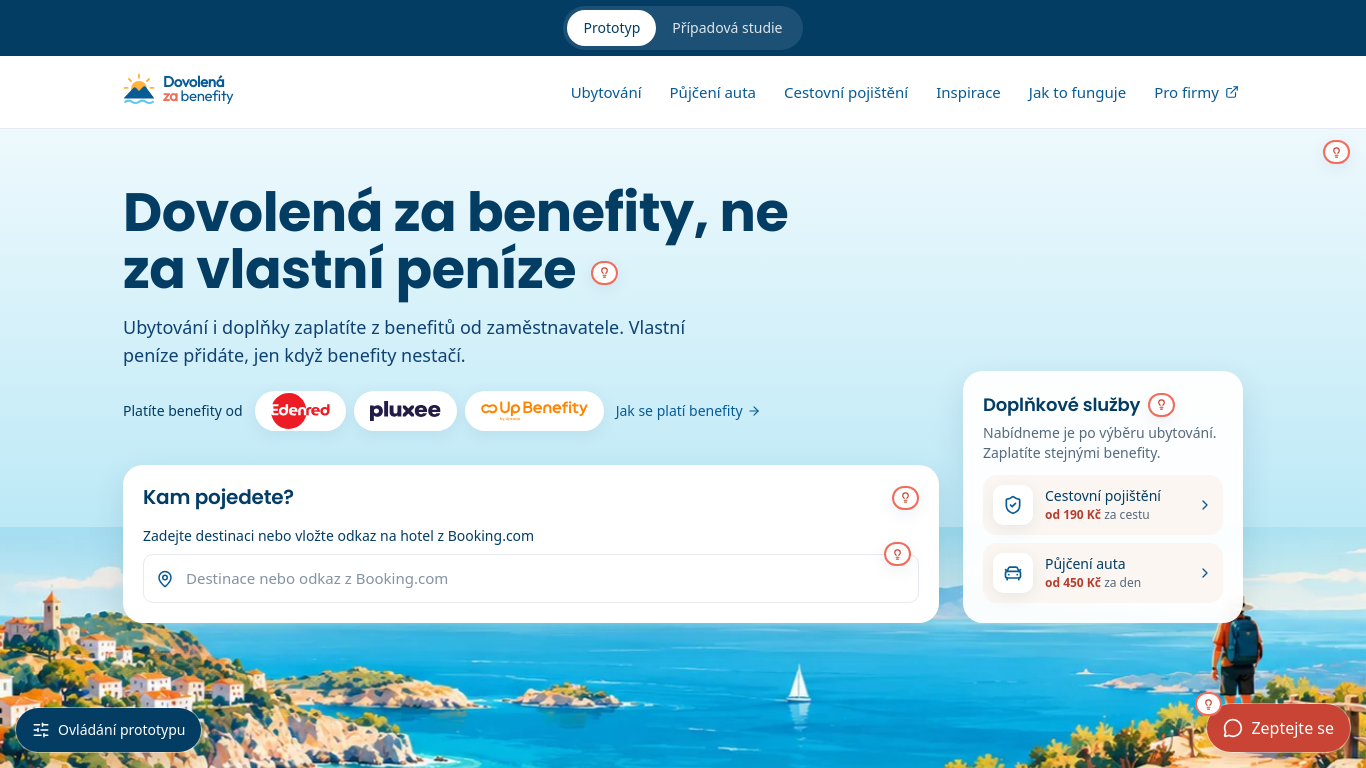
Test: Vyhledávání na úvodní stránce › ve variantě B ukáže termín až po zadání místa, stejně jako dnešní web
This screenshot has width=1366, height=768.
Check: the button "Termín" is not shown
Type "Praha" into the field with placeholder "Destinace nebo odkaz z Booking.com".
click(546, 579); type("Praha")  # box [186,555,906,602]
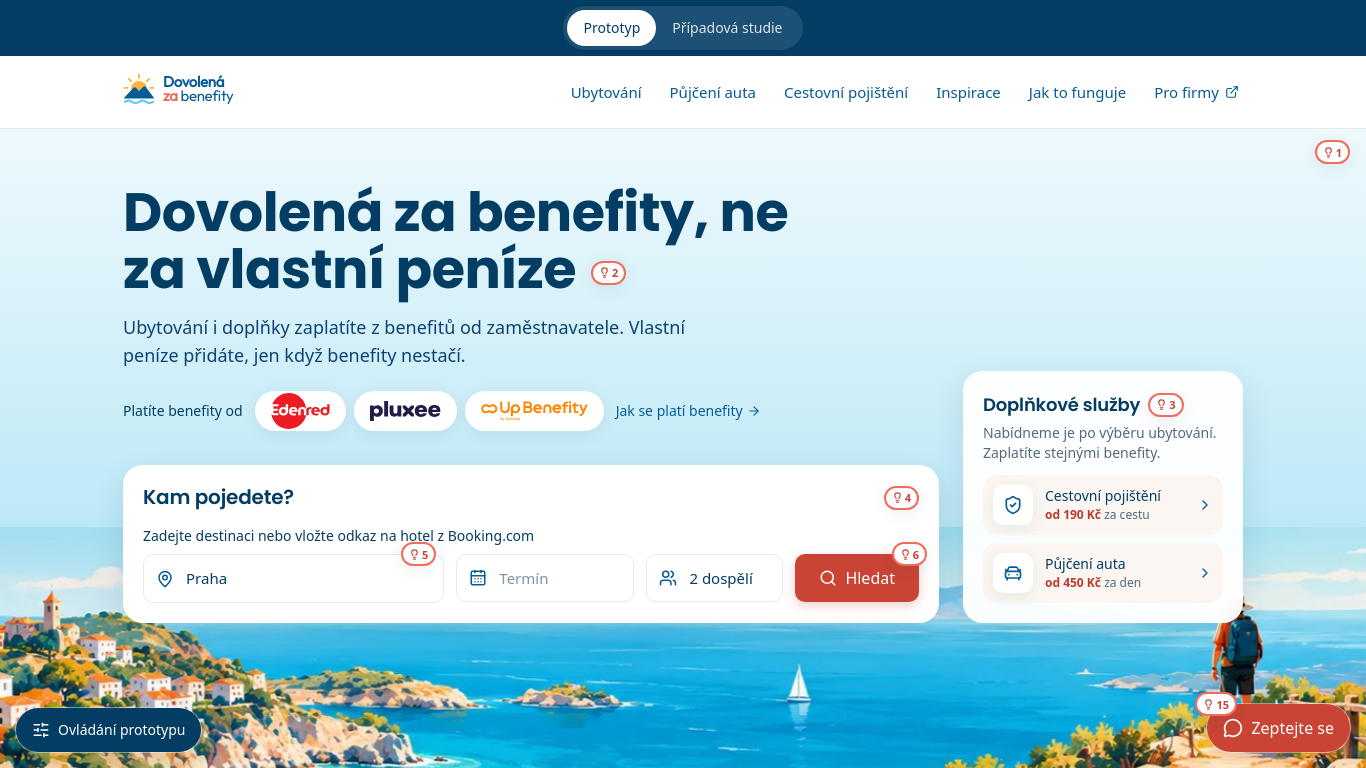
Check: the button "Termín" is shown, box [456,554,634,602]
